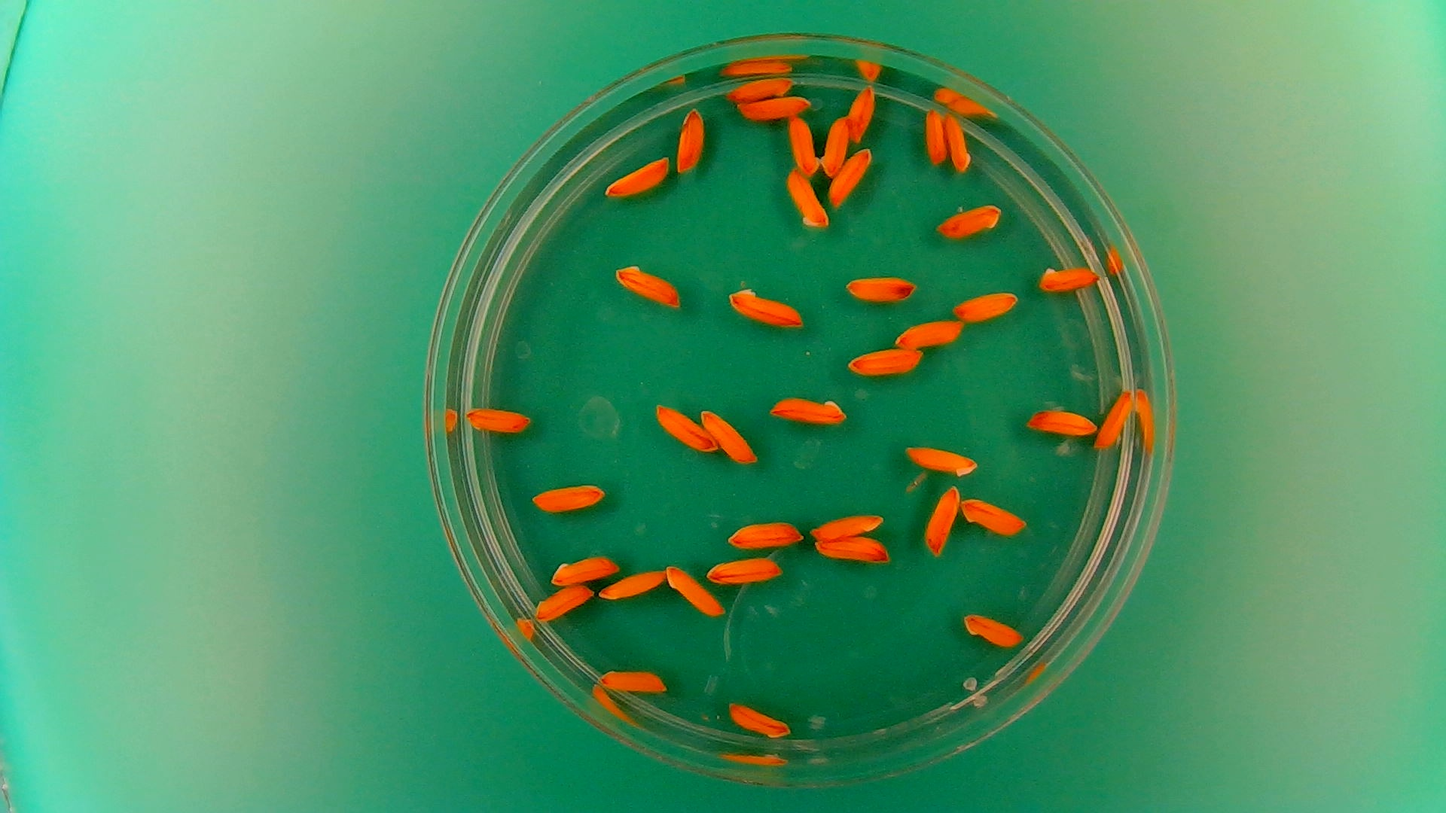no: (725, 282, 807, 330), (700, 405, 760, 464), (612, 261, 684, 310), (664, 562, 727, 618), (653, 400, 717, 454), (602, 154, 672, 200), (527, 477, 609, 516), (920, 483, 962, 559), (766, 391, 850, 428), (903, 440, 980, 479), (725, 697, 793, 741), (784, 167, 830, 231), (828, 145, 874, 209), (932, 199, 1005, 239), (843, 343, 924, 379), (959, 495, 1029, 536), (530, 582, 595, 626), (724, 516, 804, 550), (596, 565, 669, 602), (547, 550, 622, 586), (892, 314, 966, 350), (809, 507, 887, 541), (960, 609, 1025, 649), (703, 554, 784, 586), (842, 271, 920, 304), (1094, 387, 1134, 451), (735, 91, 813, 123), (462, 403, 533, 438), (812, 534, 892, 565), (1024, 405, 1099, 438), (950, 288, 1020, 323), (596, 663, 670, 696), (674, 103, 708, 174), (786, 111, 821, 178), (819, 110, 850, 180), (844, 82, 877, 145), (1036, 262, 1100, 293), (724, 74, 794, 102), (943, 110, 972, 174), (922, 105, 949, 166)
